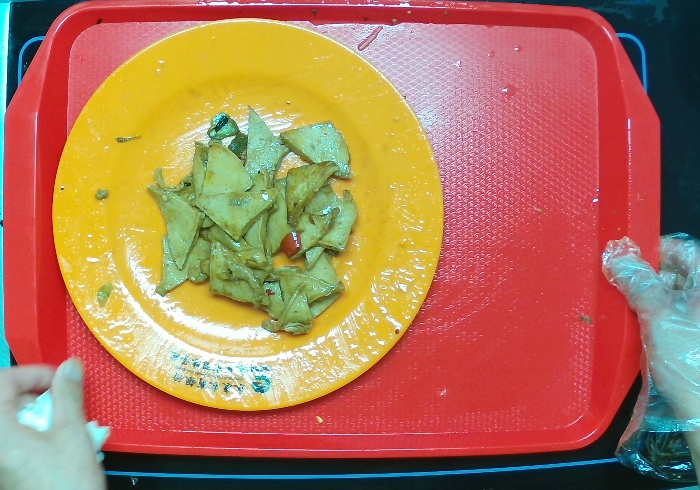YKMZ-Ju_Se_Mian_Pan: (52, 16, 449, 410)
